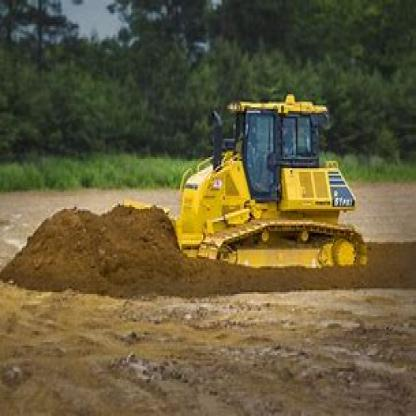bull_dozer/loader/grader: (117, 63, 378, 294)
